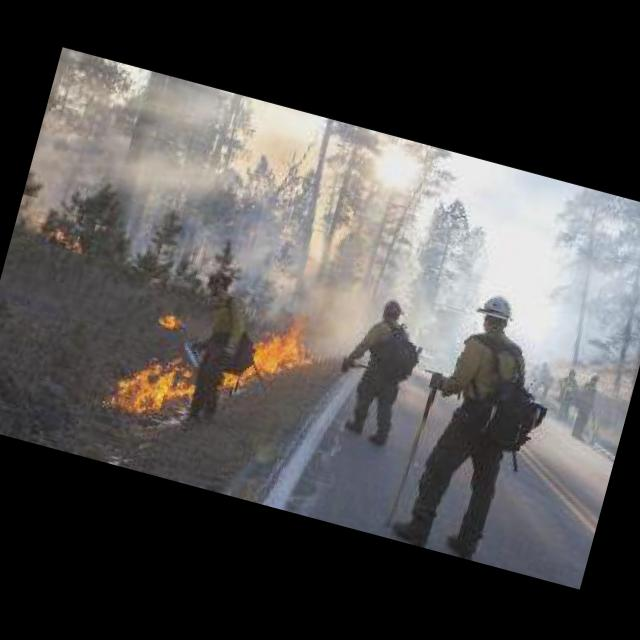fire: (219, 304, 328, 406), (112, 340, 200, 424), (23, 207, 86, 250), (157, 309, 180, 328)
